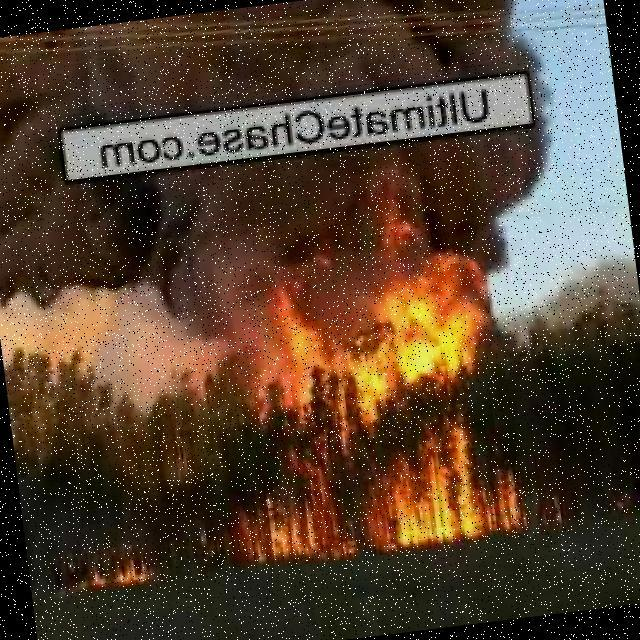Fire: (193, 206, 513, 567), (61, 549, 161, 592)
